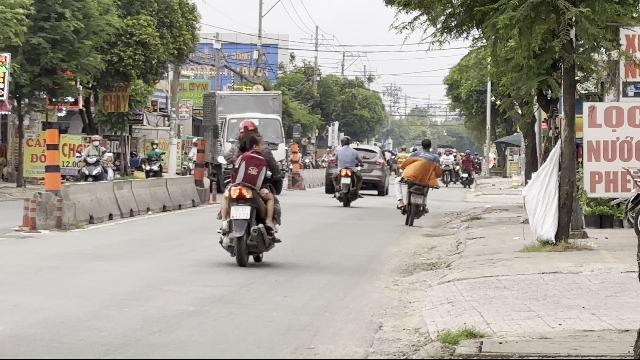helmet: (238, 119, 258, 137)
licenseplate: (230, 206, 250, 218)
motorcyclist: (214, 118, 282, 266)
nohelmet: (240, 134, 264, 154)
